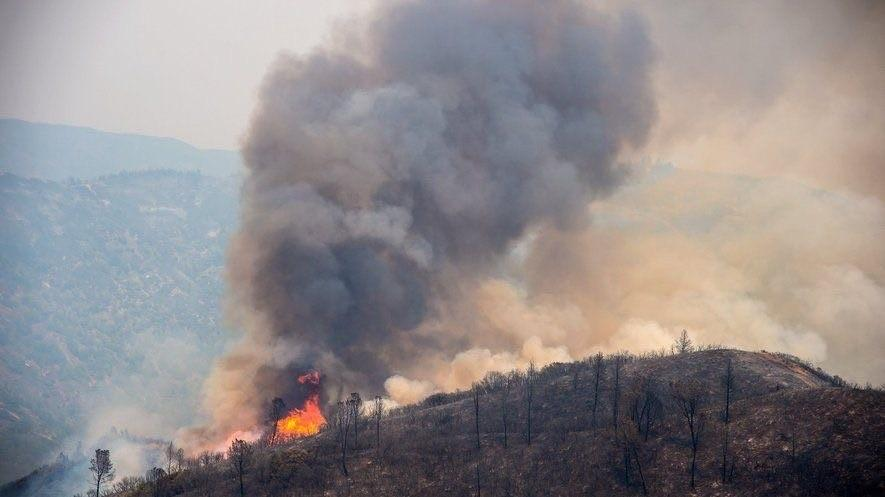fire: (263, 398, 342, 454)
smoke: (212, 0, 629, 362), (183, 358, 265, 487)
